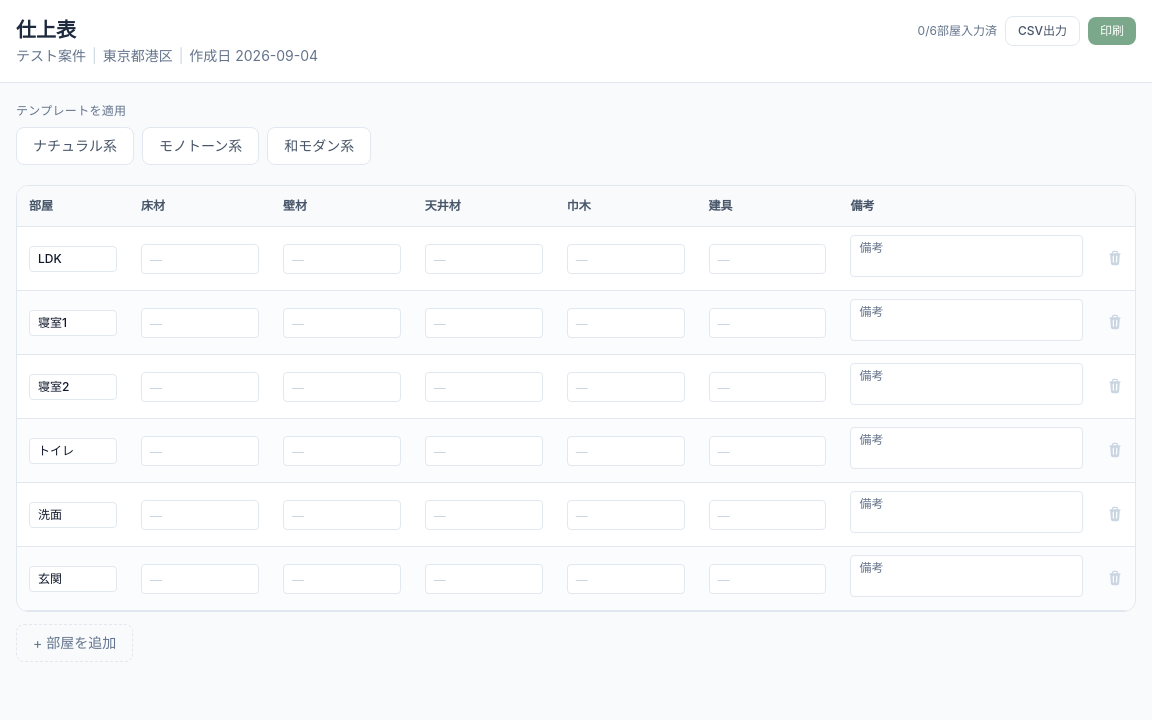
Test: FinishingSchedulePage — テンプレート › ナチュラル系テンプレートを適用するとオーク突板フローリングが表示される
The image size is (1152, 720).
Click the button with test id "template-ナチュラル系".
click(75, 146)  # box [16,127,134,165]
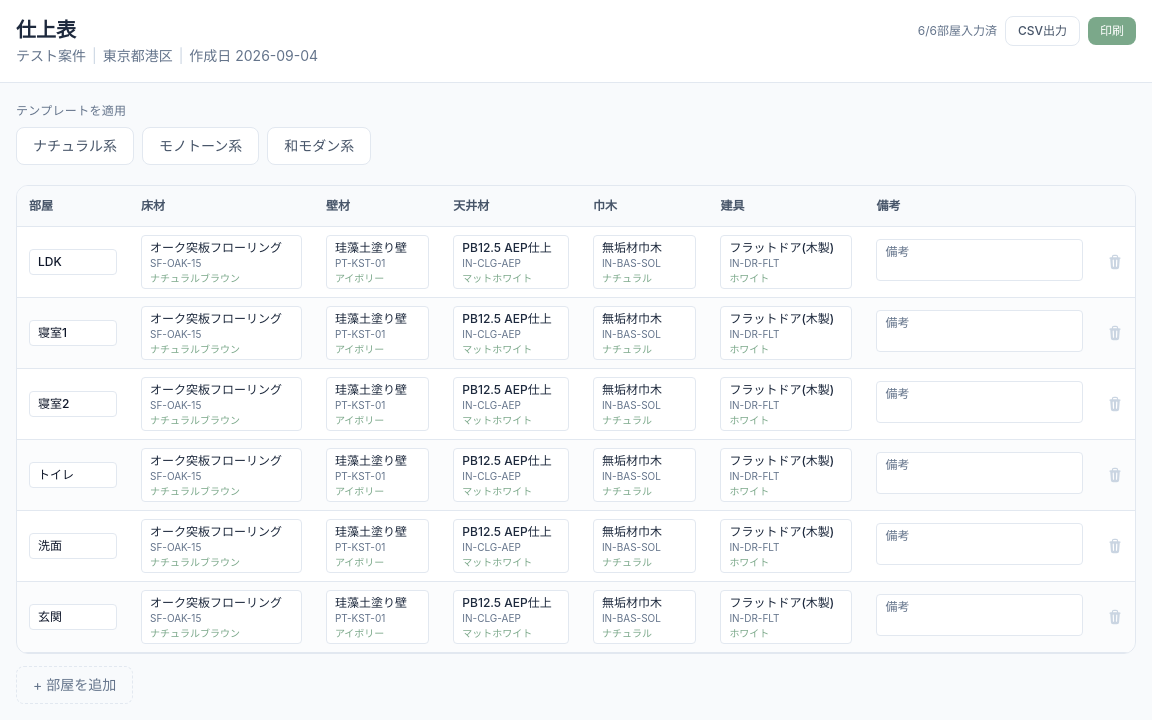
Result: the 1st text "オーク突板フローリング" is shown at [150,240,293,255]
